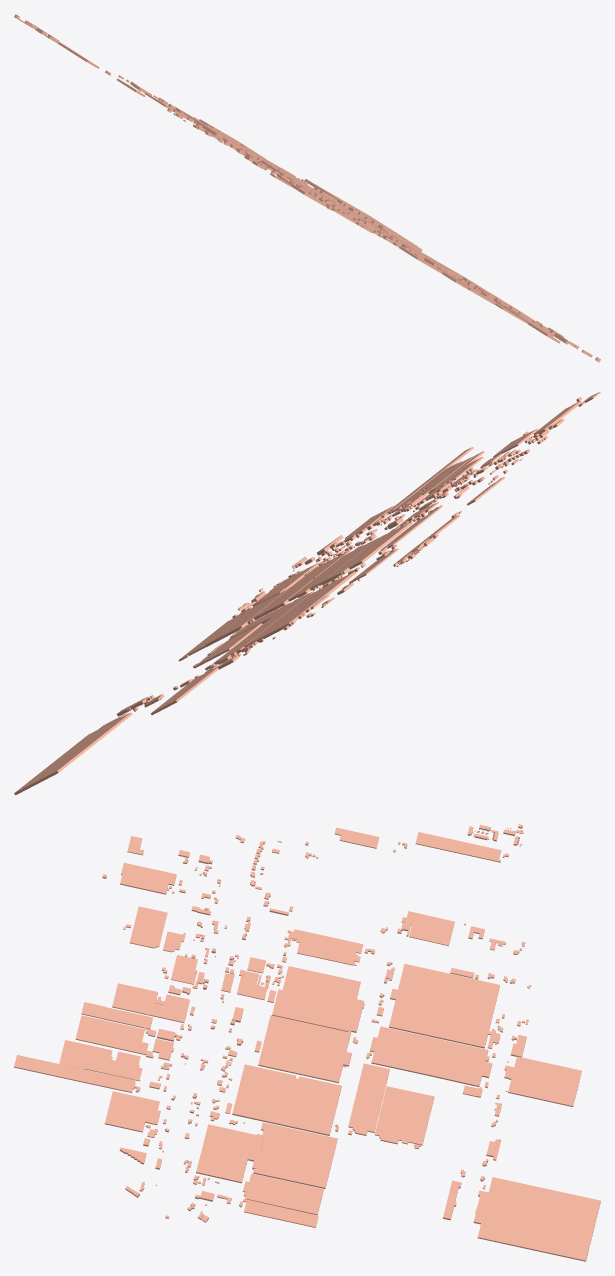
3 renders of one model, top to bottom at view 1: azimuth 30°, elevation 25°; view 2: azimuth 150°, elevation 25°; view 3: azimuth 270°, elevation 25°, orthographic. The views are drawn at different scales.
Size of the model in its own units: 1081 by 861 by 1650.
